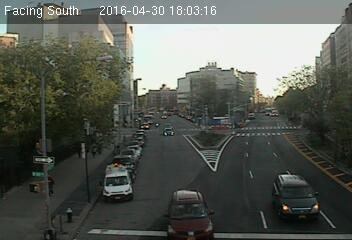neg: (99, 167, 123, 200), (286, 182, 306, 209), (165, 195, 183, 220), (300, 134, 315, 154), (206, 138, 220, 157), (162, 123, 175, 141), (242, 107, 254, 123), (195, 113, 205, 127), (271, 109, 281, 122)
